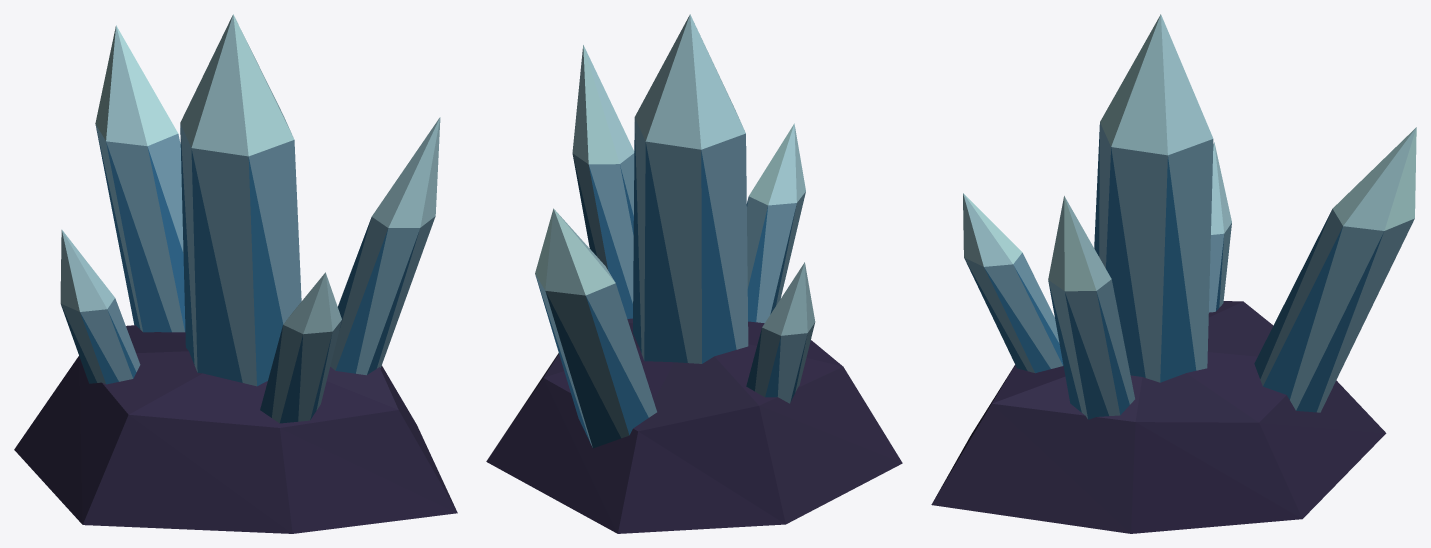
Rendered from arcane-crystals-b.glb.
The picture shows the model from 3 angles, left to right: view 1: azimuth 30°, elevation 25°; view 2: azimuth 150°, elevation 25°; view 3: azimuth 270°, elevation 25°; orthographic projection. The views are drawn at different scales.
Visible parts, largest first — view 1: arcane-crystals-b; view 2: arcane-crystals-b; view 3: arcane-crystals-b.
Boxes of the visible parts, <box> form: arcane-crystals-b: <box>14,14,457,533</box>; arcane-crystals-b: <box>486,14,902,533</box>; arcane-crystals-b: <box>931,14,1416,533</box>.
Size of the model in its own units: 0.3031 by 0.3619 by 0.3633.
